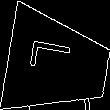L_E: (32, 44, 83, 84)
